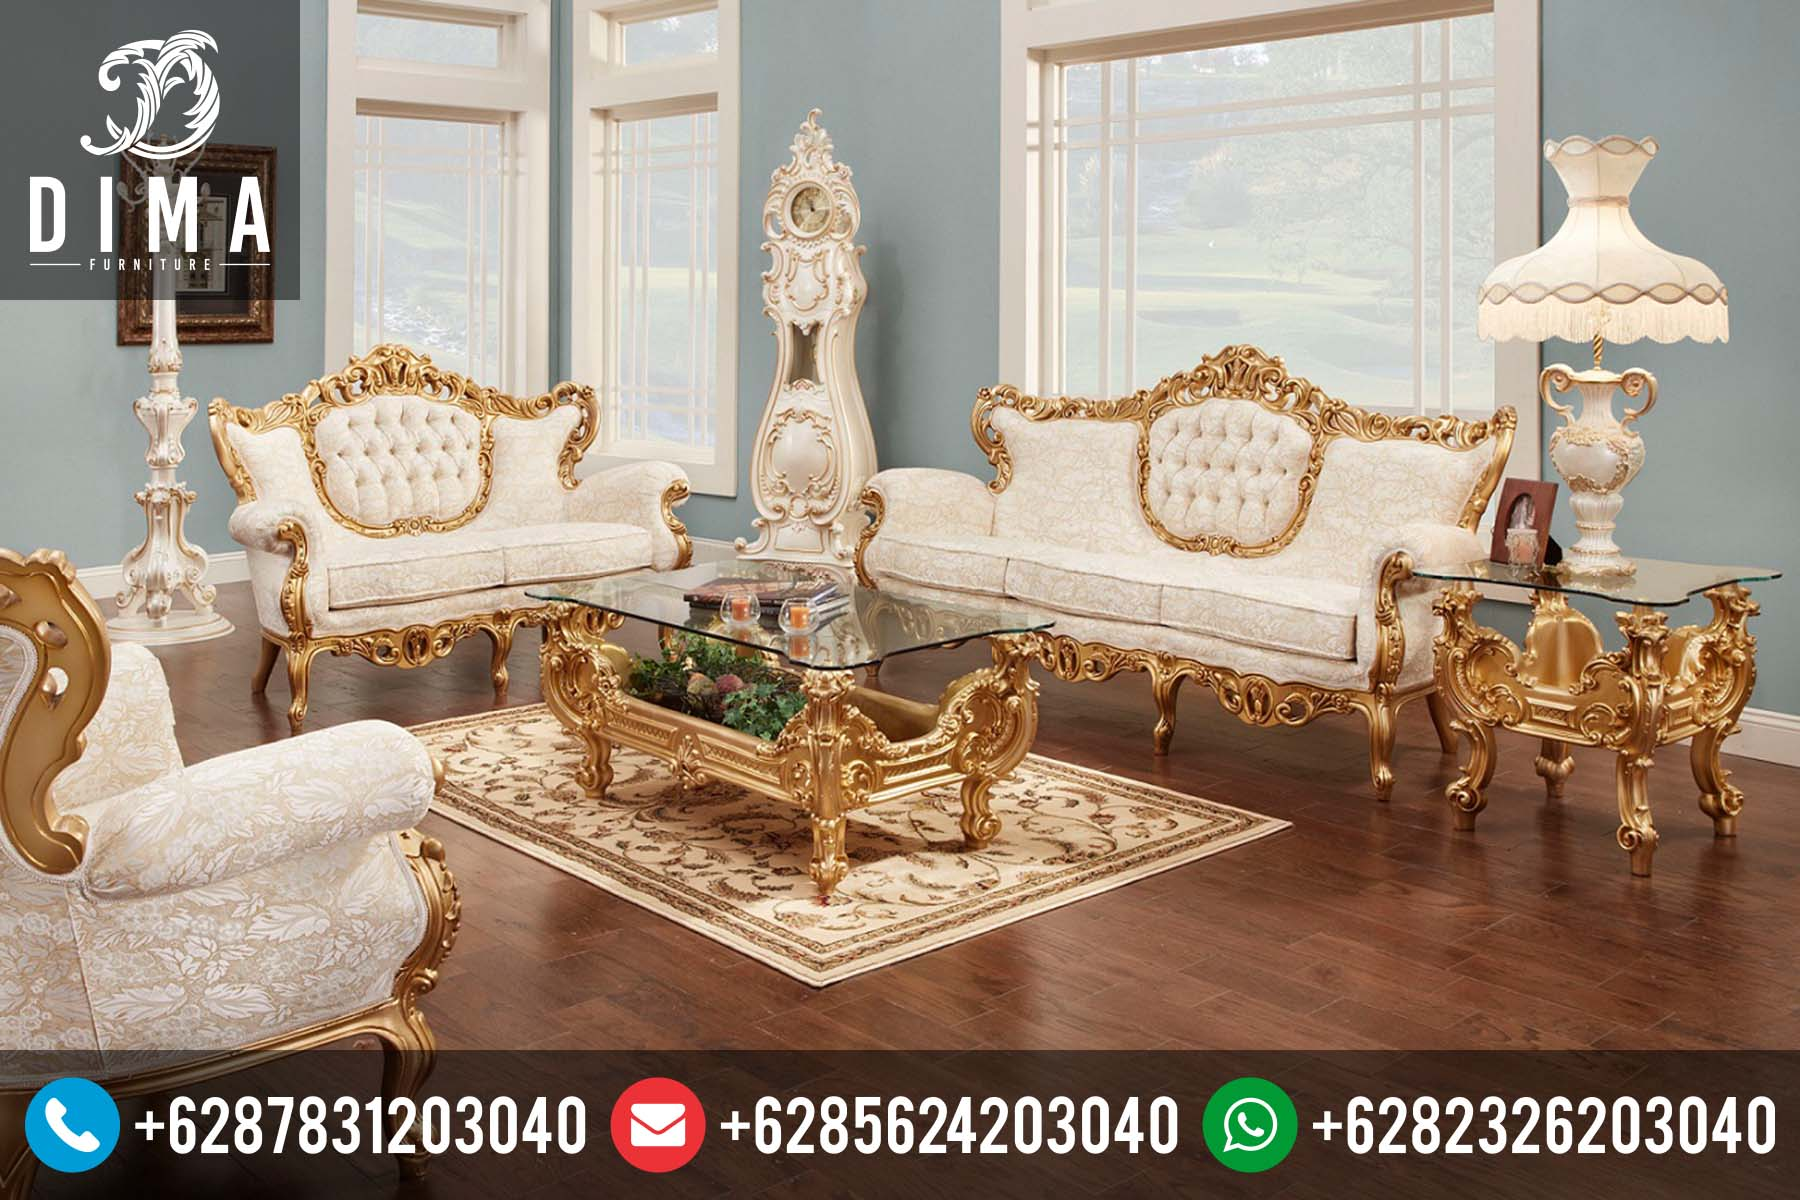Carving Chair: (850, 342, 1547, 804), (228, 358, 737, 684)
Carving Table: (520, 569, 1110, 900)
